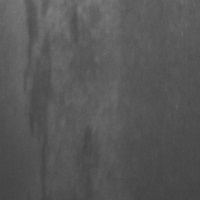inclusion: (21, 1, 56, 199), (61, 1, 105, 80), (72, 122, 102, 199)
